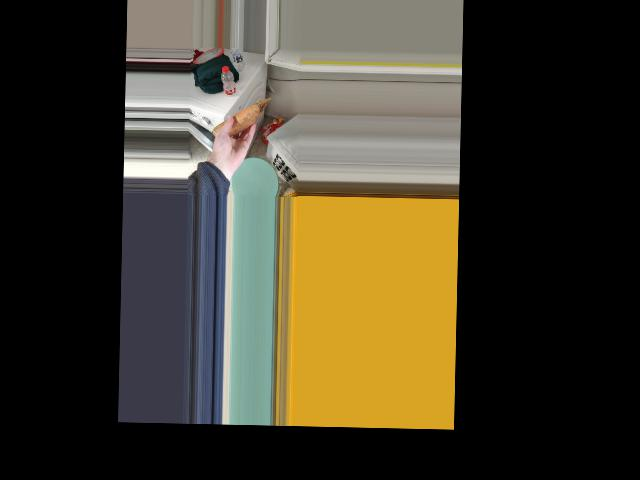sweet_potato: (214, 110, 251, 143)
